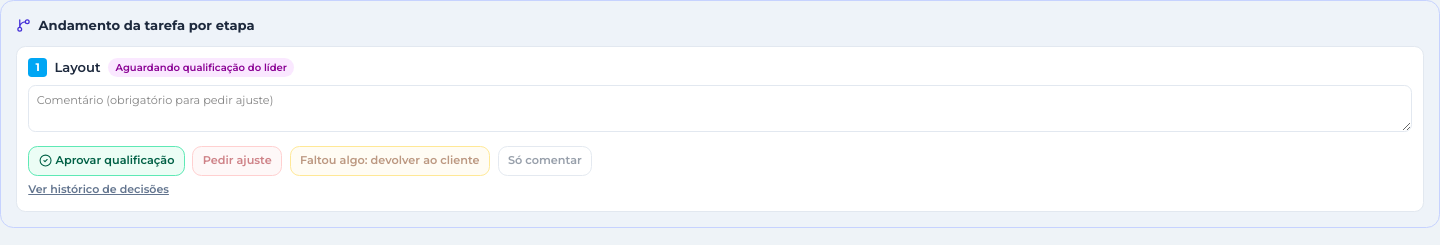
Test: Painel operacional da tarefa (A8b fase 5) › líder: aprova a qualificação e pede ajuste (motivo obrigatório)
Later steps or results of the test are not shown.
Expected: the text "Layout" is shown, [54,58,100,77]
Expected: the text "Aguardando qualificação do líder" is shown, [108,58,294,77]
Type "Falta o rodapé" into the text box named "Comentário da etapa 1" at (720, 108), box [28,84,1412,132]
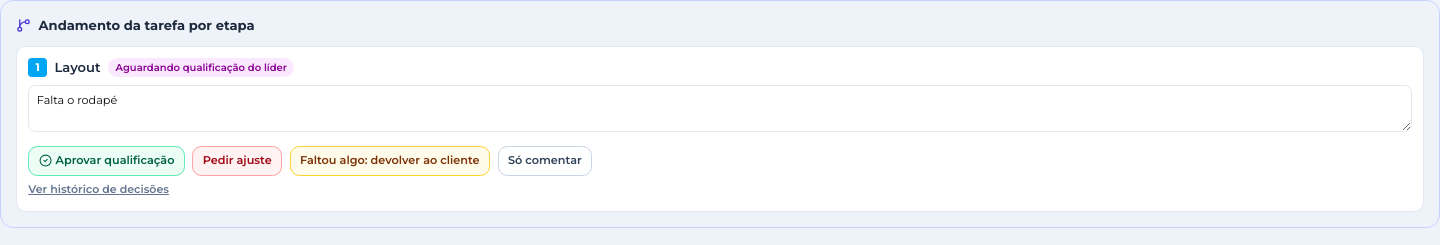
Now the button "Pedir ajuste" is enabled, box [192,146,282,176]
